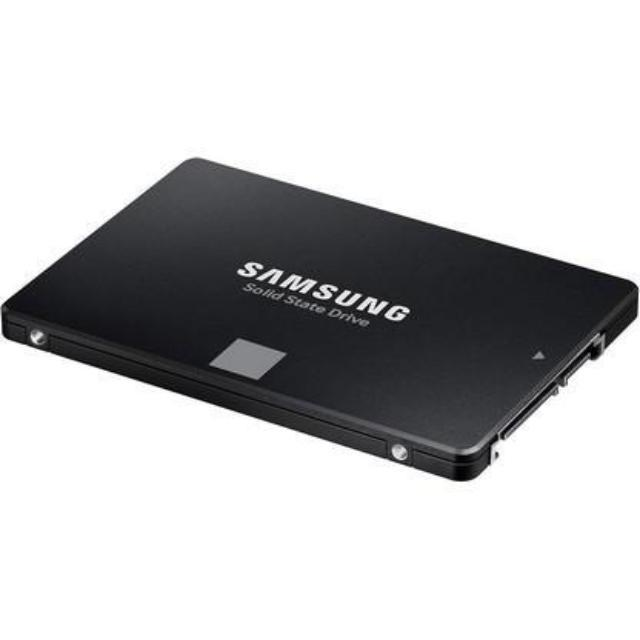DISK: (0, 158, 634, 482)
